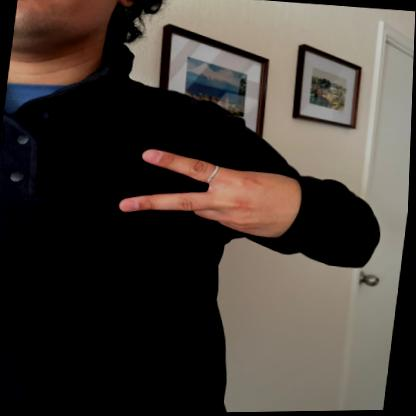H: (113, 144, 311, 246)
